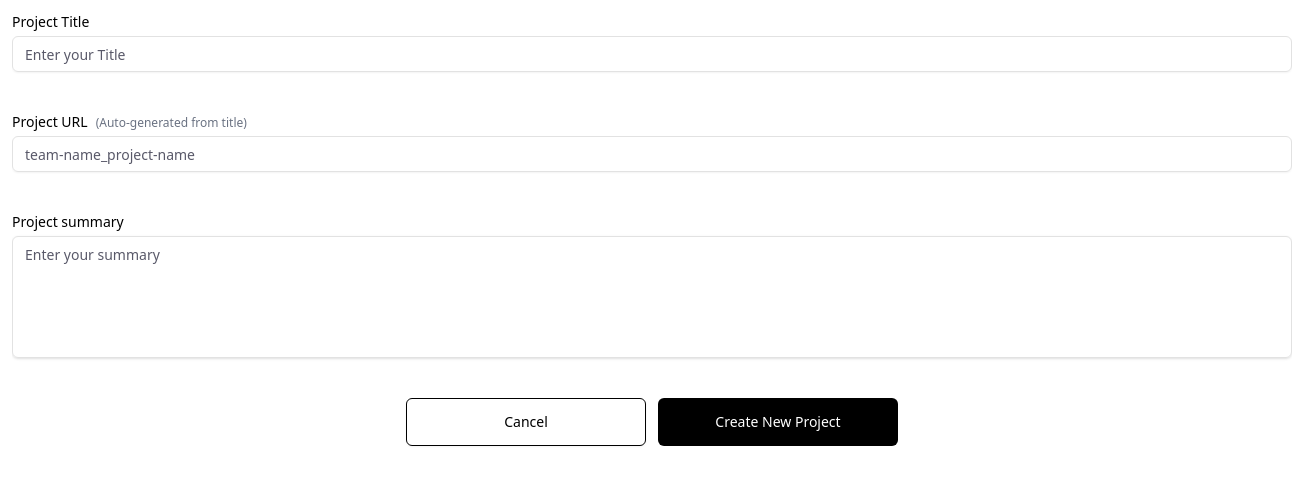
Test case: ProjectForm - 통합 테스트 › 유효성 검증 › URL이 이미 사용 중이면 에러 메시지가 표시된다
This screenshot has width=1304, height=487.
Type "Test Project" into the field with placeholder "Enter your Title" at (652, 54), box [12,36,1292,72]
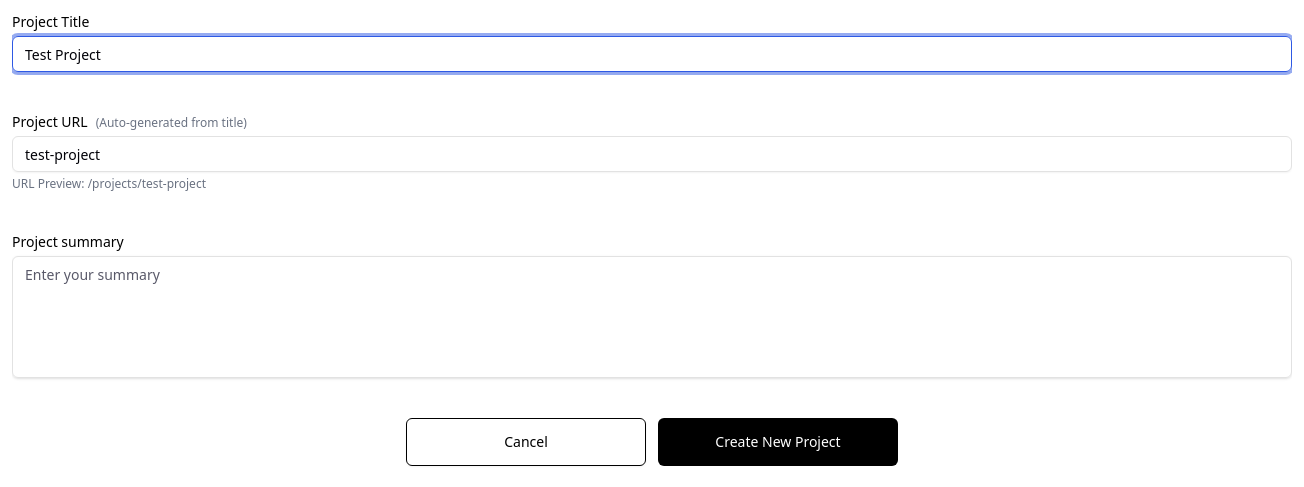
Type "existing-project" into the field with placeholder "team-name_project-name" below "Project URL" at (652, 154), box [12,136,1292,172]
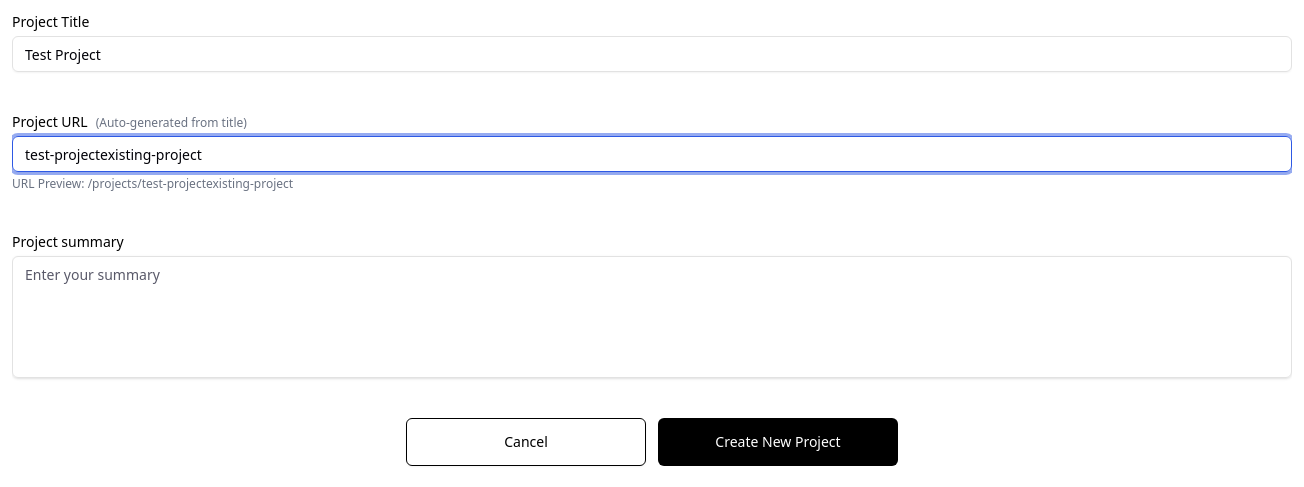
Type "Test summary" into the text box with placeholder "Enter your summary" at (652, 317), box [12,256,1292,378]
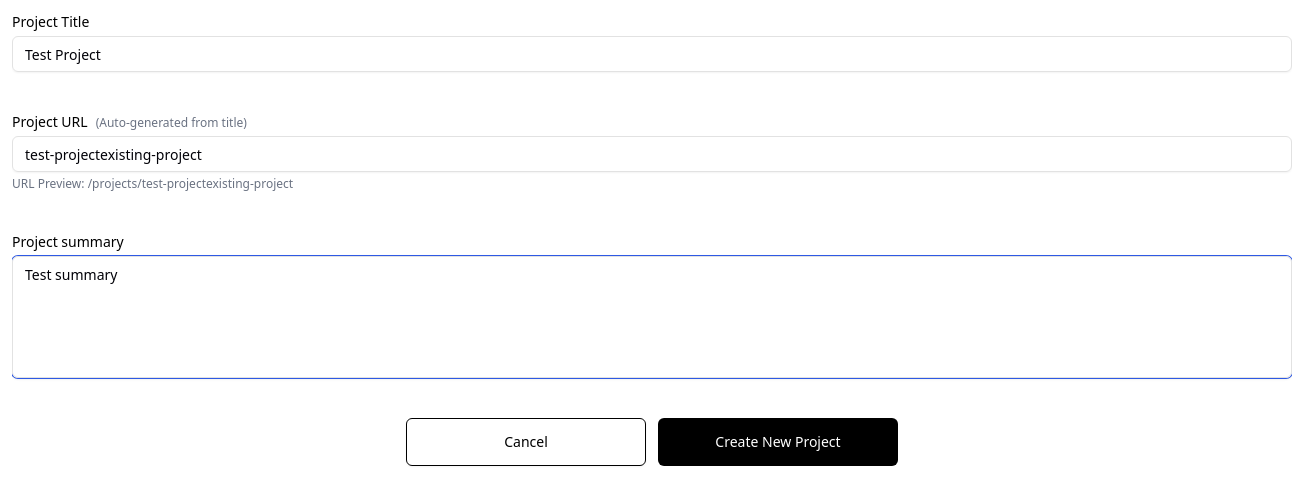
Click the button "Create New Project" at (778, 442), box [658,418,898,466]
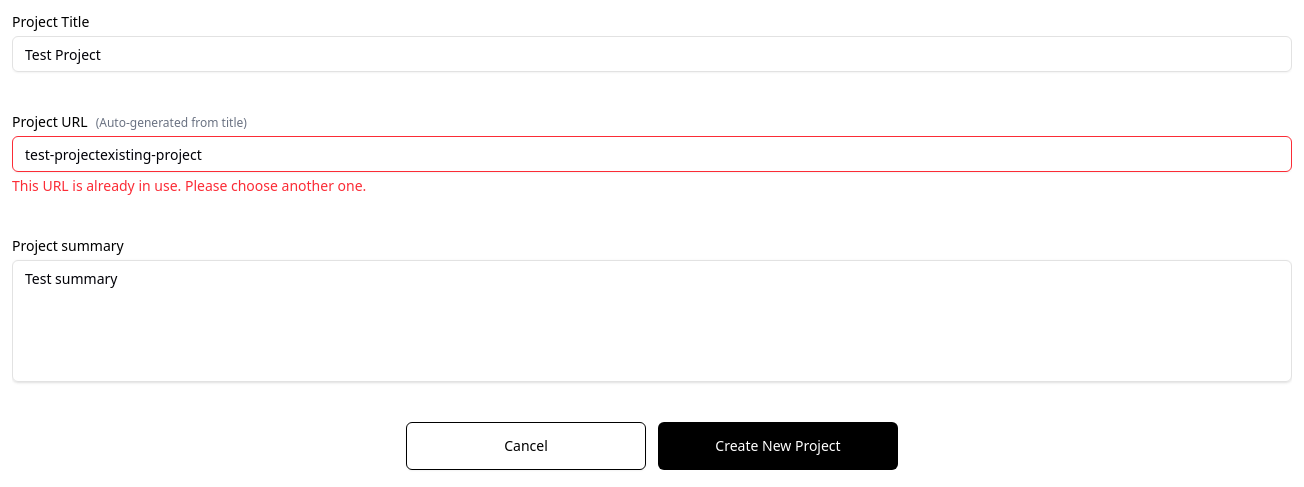
Result: the text "This URL is already in use. Please choose another one." is shown at [12,176,366,195]
